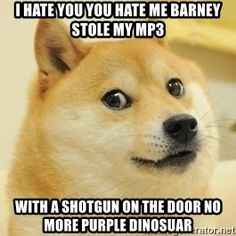doge: (37, 38, 215, 197)
